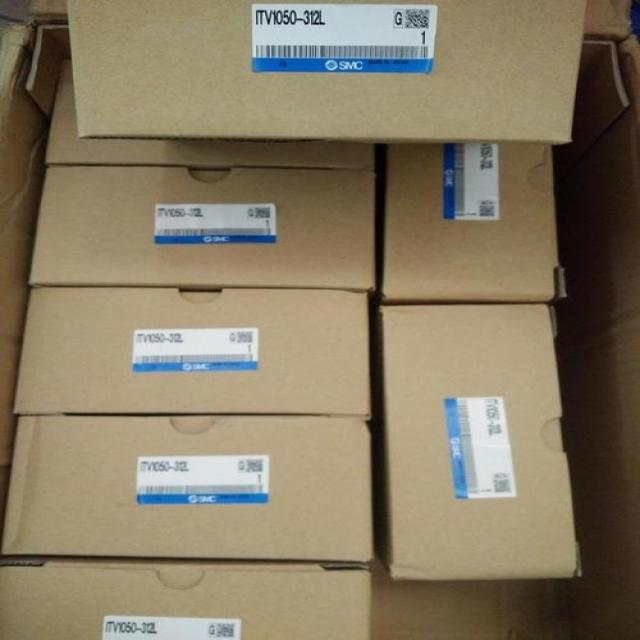box: (0, 2, 639, 638), (65, 2, 590, 144), (374, 301, 581, 580), (1, 413, 370, 564), (15, 286, 370, 415), (29, 165, 375, 290), (43, 60, 376, 168), (0, 557, 373, 639), (379, 141, 563, 304)
